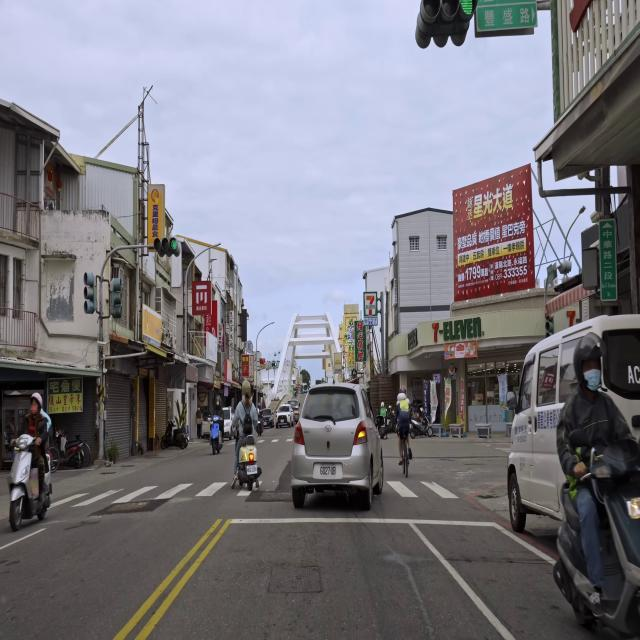green light: (421, 1, 476, 22), (154, 237, 177, 253)
